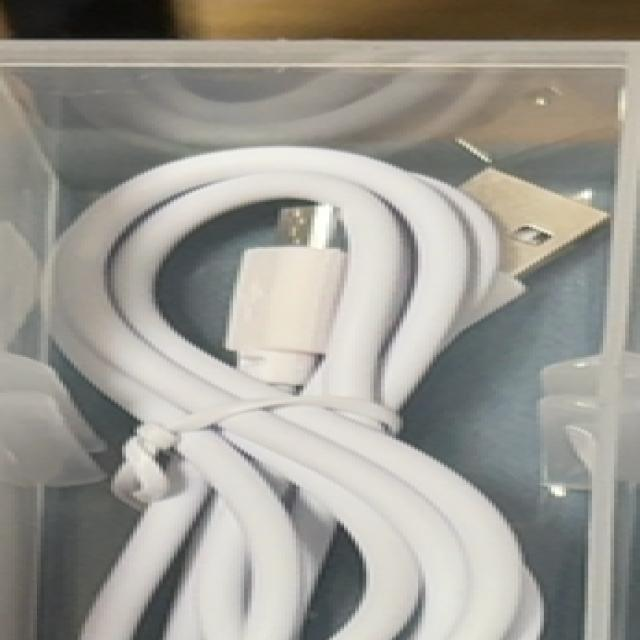USB: (29, 144, 606, 640)
